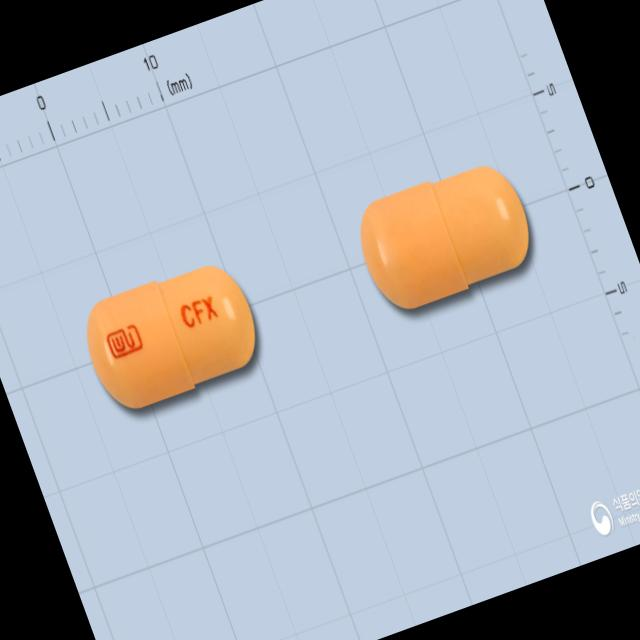Cefixime Cap- Withus: (70, 246, 278, 430), (343, 146, 552, 328)
